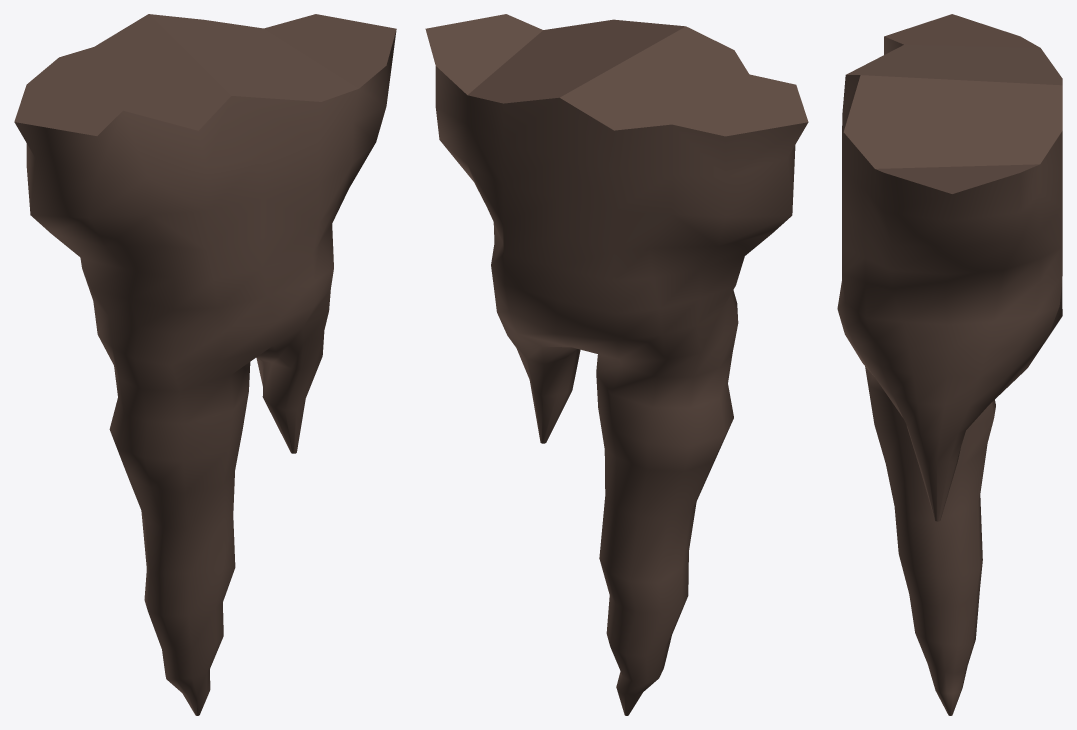
File: sarkit.fbx
3 renders of one model, left to right at view 1: azimuth 30°, elevation 25°; view 2: azimuth 150°, elevation 25°; view 3: azimuth 270°, elevation 25°, orthographic. The views are drawn at different scales.
Visible parts, largest first — view 1: pCylinder5; view 2: pCylinder5; view 3: pCylinder5.
Part boxes in pixels (x1=…): pCylinder5: x1=14, y1=14, x2=396, y2=715; pCylinder5: x1=425, y1=14, x2=808, y2=715; pCylinder5: x1=837, y1=14, x2=1062, y2=715.
Size of the model in its own units: 17.74 by 29.11 by 9.37.
